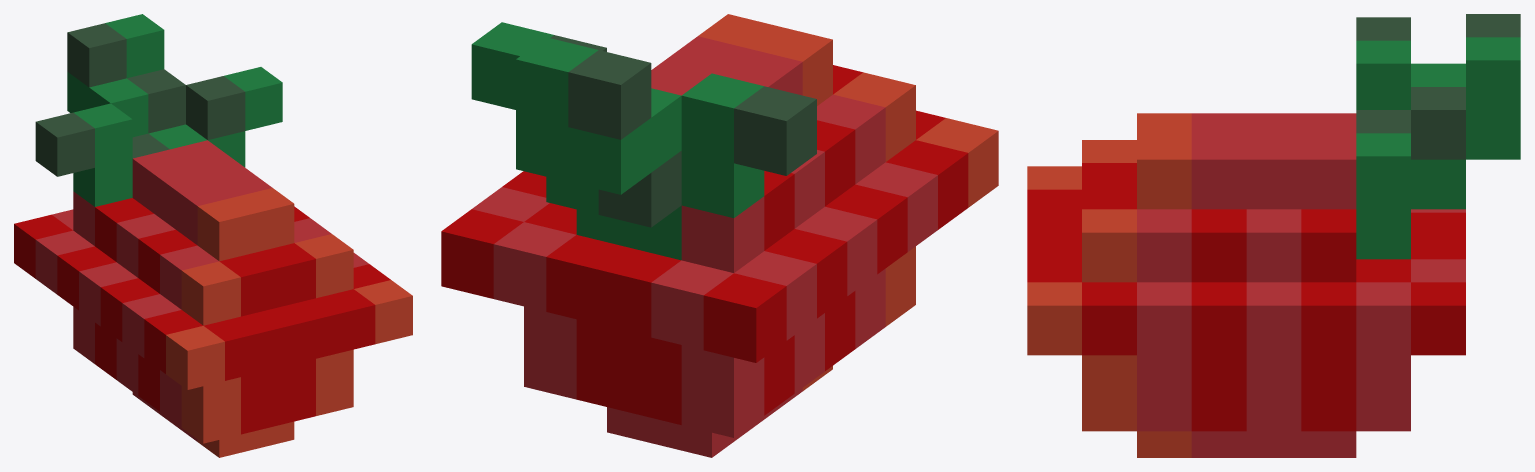
File: Yuri_Alexandra_Castañeda_Montaño_fase_1.obj
The picture shows the model from 3 angles, left to right: view 1: azimuth 30°, elevation 25°; view 2: azimuth 150°, elevation 25°; view 3: azimuth 270°, elevation 25°; orthographic projection. The views are drawn at different scales.
Parts seen in each view (by area): view 1: Yuri_Alexandra_Castañeda_Montaño_fase_1; view 2: Yuri_Alexandra_Castañeda_Montaño_fase_1; view 3: Yuri_Alexandra_Castañeda_Montaño_fase_1.
Boxes of the visible parts, x1=… form: Yuri_Alexandra_Castañeda_Montaño_fase_1: x1=14, y1=14, x2=412, y2=457; Yuri_Alexandra_Castañeda_Montaño_fase_1: x1=441, y1=14, x2=998, y2=457; Yuri_Alexandra_Castañeda_Montaño_fase_1: x1=1027, y1=14, x2=1520, y2=457.
Bounding box in the file's own units: 6 × 8 × 9.
Materials: 1 (1 with a texture image).
